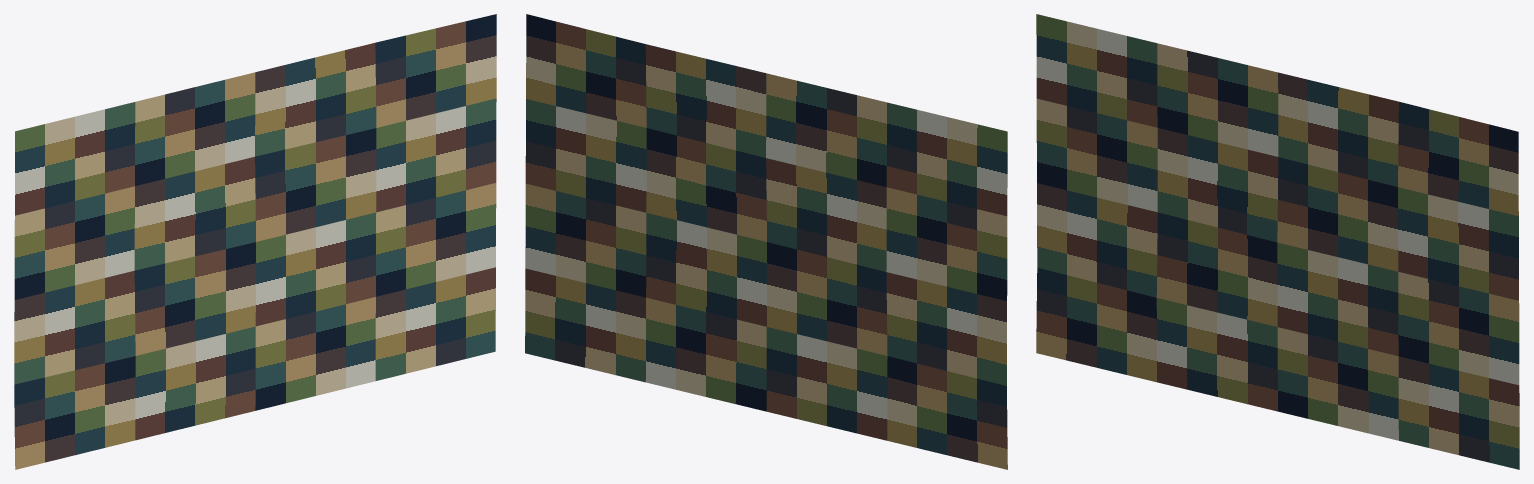
3 renders of one model, left to right at view 1: azimuth 30°, elevation 25°; view 2: azimuth 150°, elevation 25°; view 3: azimuth 330°, elevation 25°, orthographic.
Bounding box in the file's own units: 5778 × 3880 × 24.95.
Materials: 1 (1 with a texture image).
